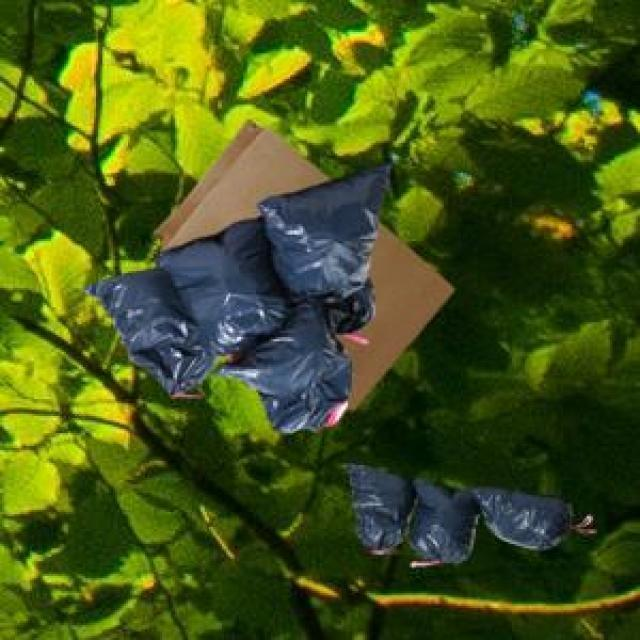miscellaneous trash: (79, 158, 387, 429), (339, 461, 568, 559)
paper: (149, 115, 450, 405)
